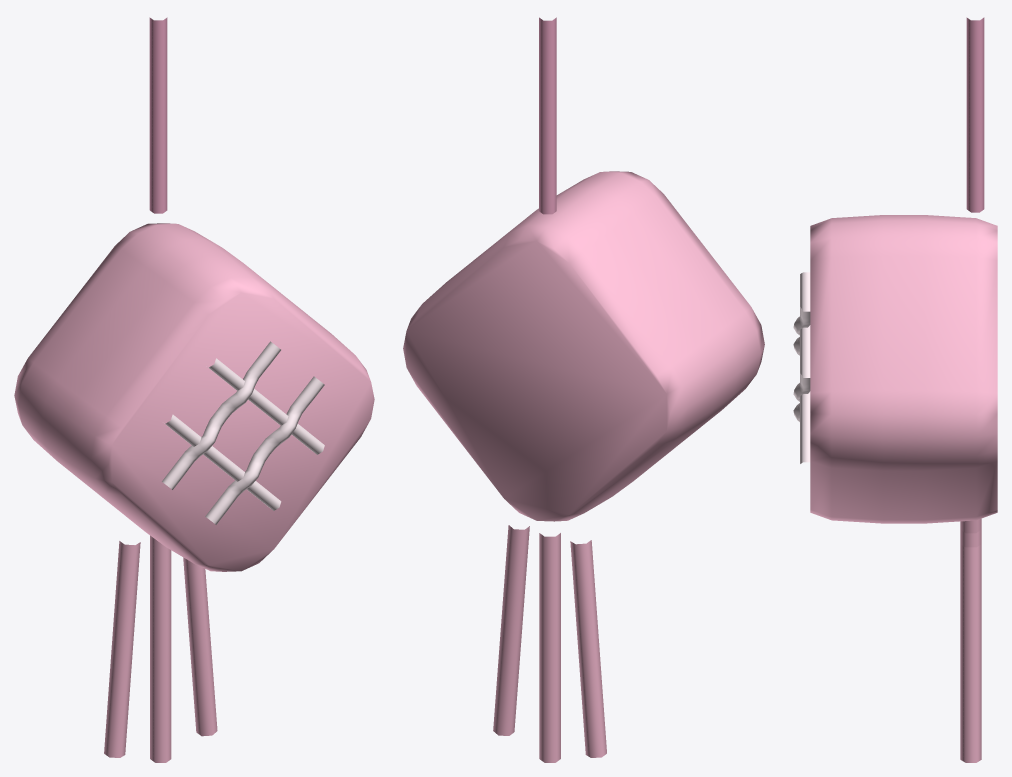
The model's file is decor_6_candy.glb.
3 views of the same model, side by side, from view 1: azimuth 30°, elevation 25°; view 2: azimuth 150°, elevation 25°; view 3: azimuth 270°, elevation 25° (orthographic).
Parts seen in each view (by area): view 1: decor_6_candy; view 2: decor_6_candy; view 3: decor_6_candy.
Part boxes in pixels (left/top/right/bottom): decor_6_candy: left=14, top=17, right=374, bottom=762; decor_6_candy: left=403, top=17, right=764, bottom=762; decor_6_candy: left=793, top=17, right=997, bottom=762.
Bounding box in the file's own units: 3.71 × 9.2 × 2.31.
